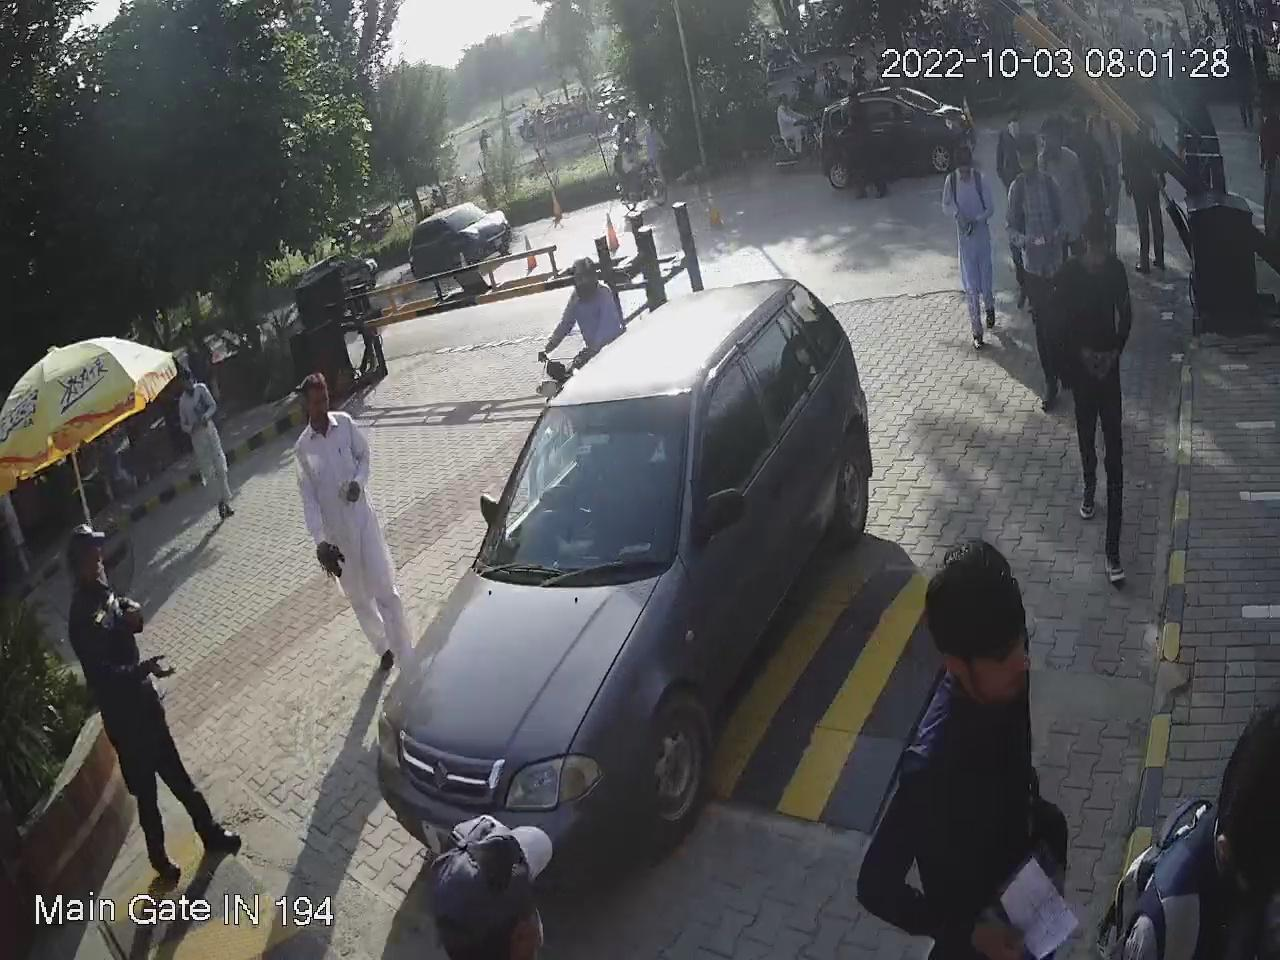windshield: (471, 377, 702, 578)
